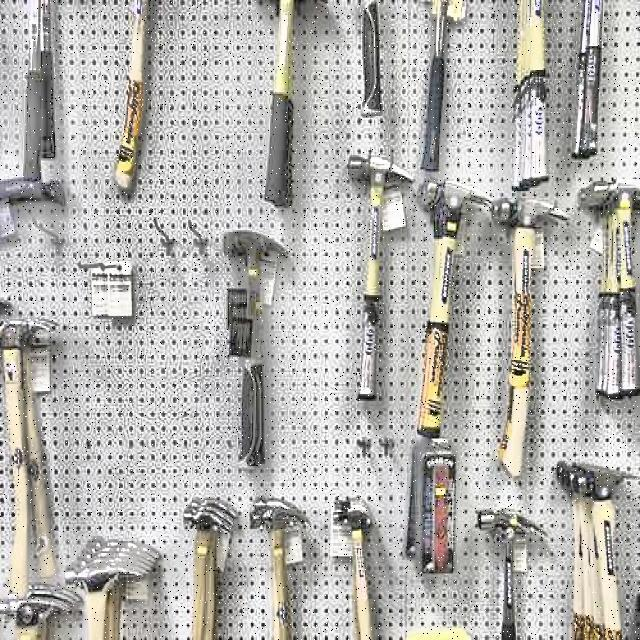hammer: (499, 192, 564, 482), (422, 178, 489, 437), (348, 148, 414, 398), (223, 230, 287, 472), (564, 463, 634, 637), (65, 529, 161, 640), (475, 511, 540, 639), (252, 494, 307, 640), (183, 496, 238, 640), (333, 499, 379, 640), (0, 576, 66, 640)
